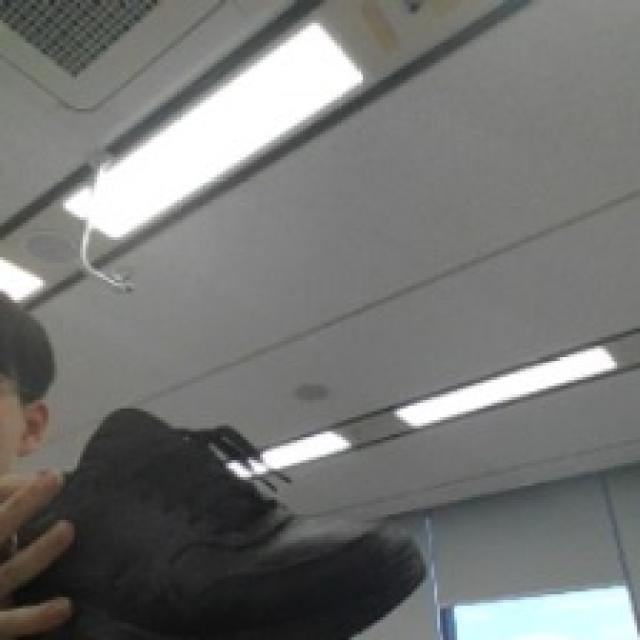shoe: (0, 403, 426, 640)
